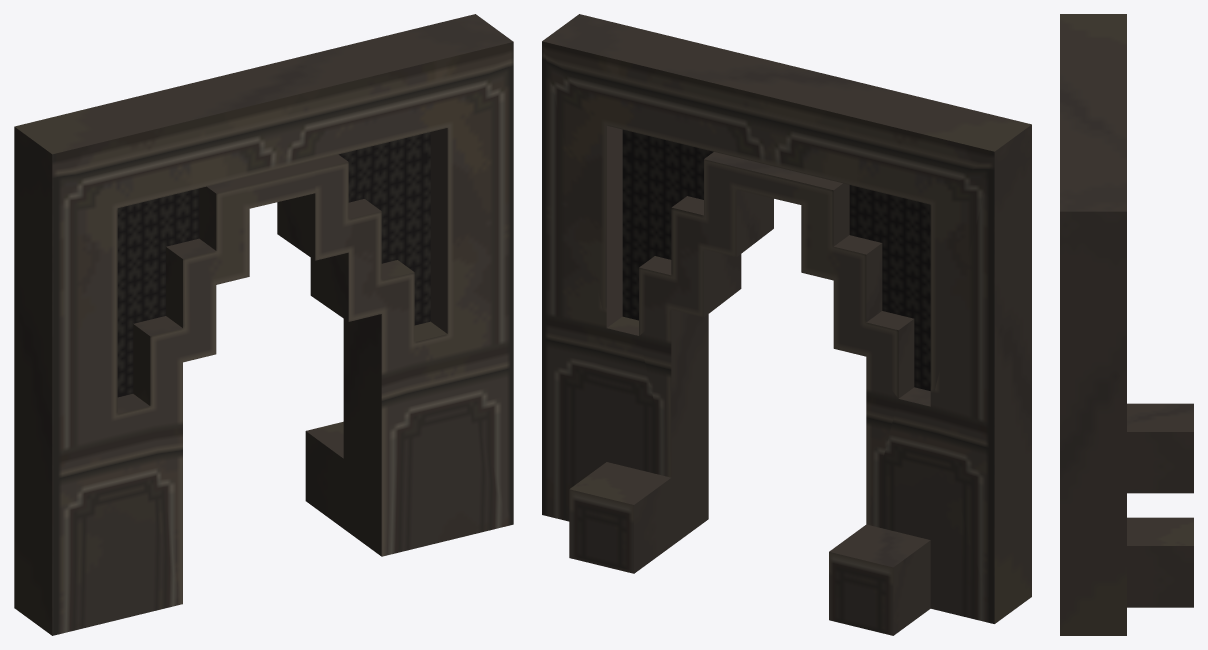
The model's file is StoneWallDoorwayModel.fbx.
The picture shows the model from 3 angles, left to right: view 1: azimuth 30°, elevation 25°; view 2: azimuth 150°, elevation 25°; view 3: azimuth 270°, elevation 25°; orthographic projection. The views are drawn at different scales.
Visible parts, largest first — view 1: StoneWallDoorwayModel; view 2: StoneWallDoorwayModel; view 3: StoneWallDoorwayModel.
Part boxes in pixels (bbox=[...]): StoneWallDoorwayModel: bbox=[14, 14, 513, 635]; StoneWallDoorwayModel: bbox=[542, 14, 1031, 635]; StoneWallDoorwayModel: bbox=[1060, 14, 1193, 635].
Size of the model in its own units: 700 by 700 by 200.
